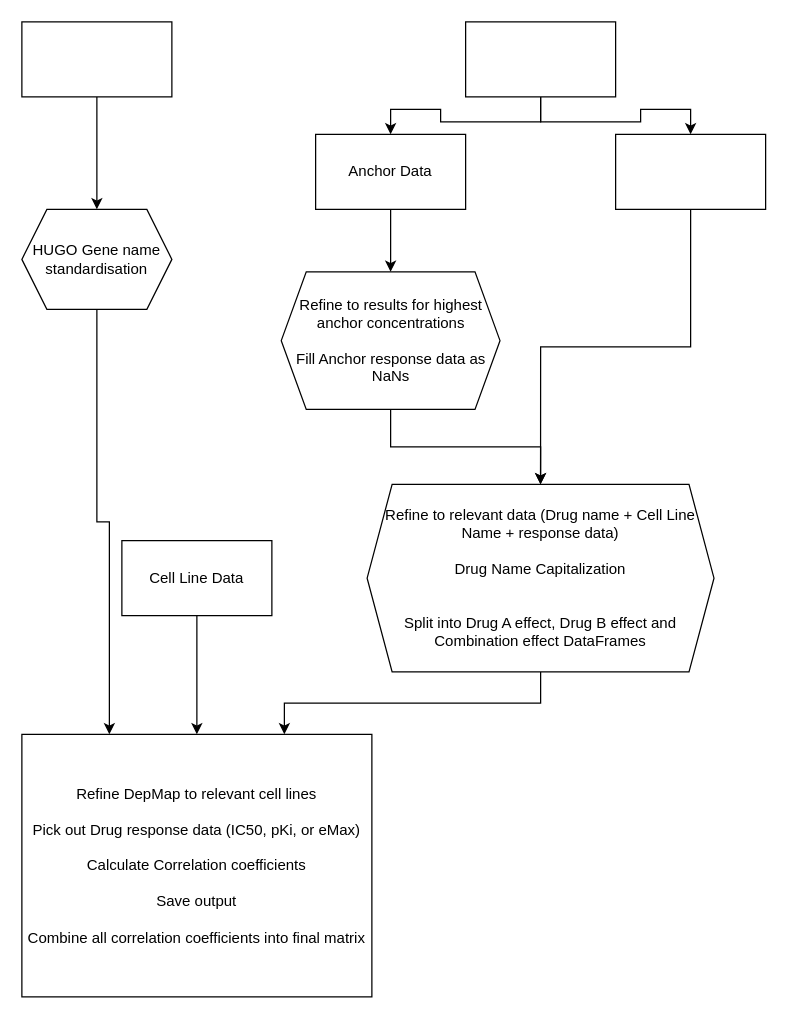
Some shapes in this 788 by 1019 pixel diagram are drawn without their labels. The shapes that lost their labels are listed below. From the top down, each one's centre as x and y in pixels, then its label:
At (96,59): "DepMap Cell Line Data".
At (540,59): "GDSCC Drug Response Data".
At (690,171): "Matrix Data".
